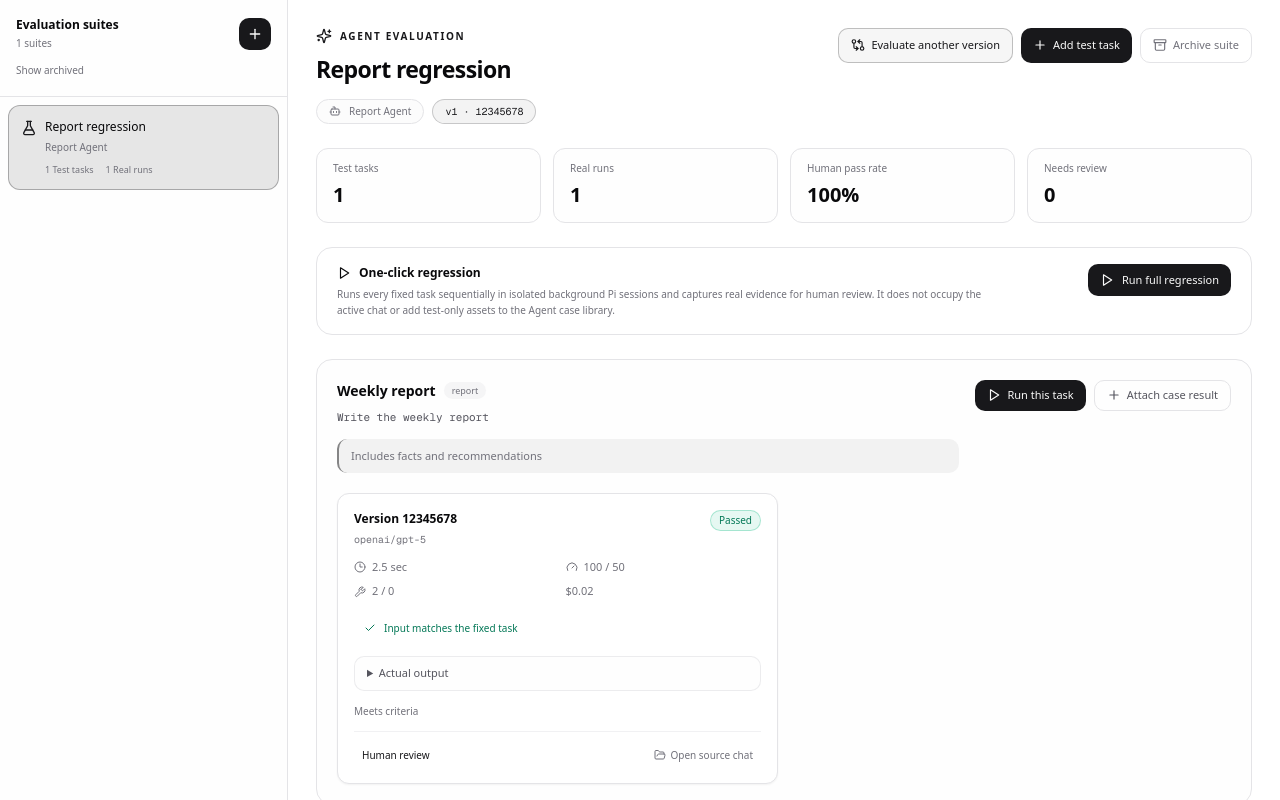
Test: AgentEvaluationsPage › copies the fixed task set to another immutable Agent version
Step 1. Click the button "Evaluate another version" → [926, 45], box [838,28,1013,62]
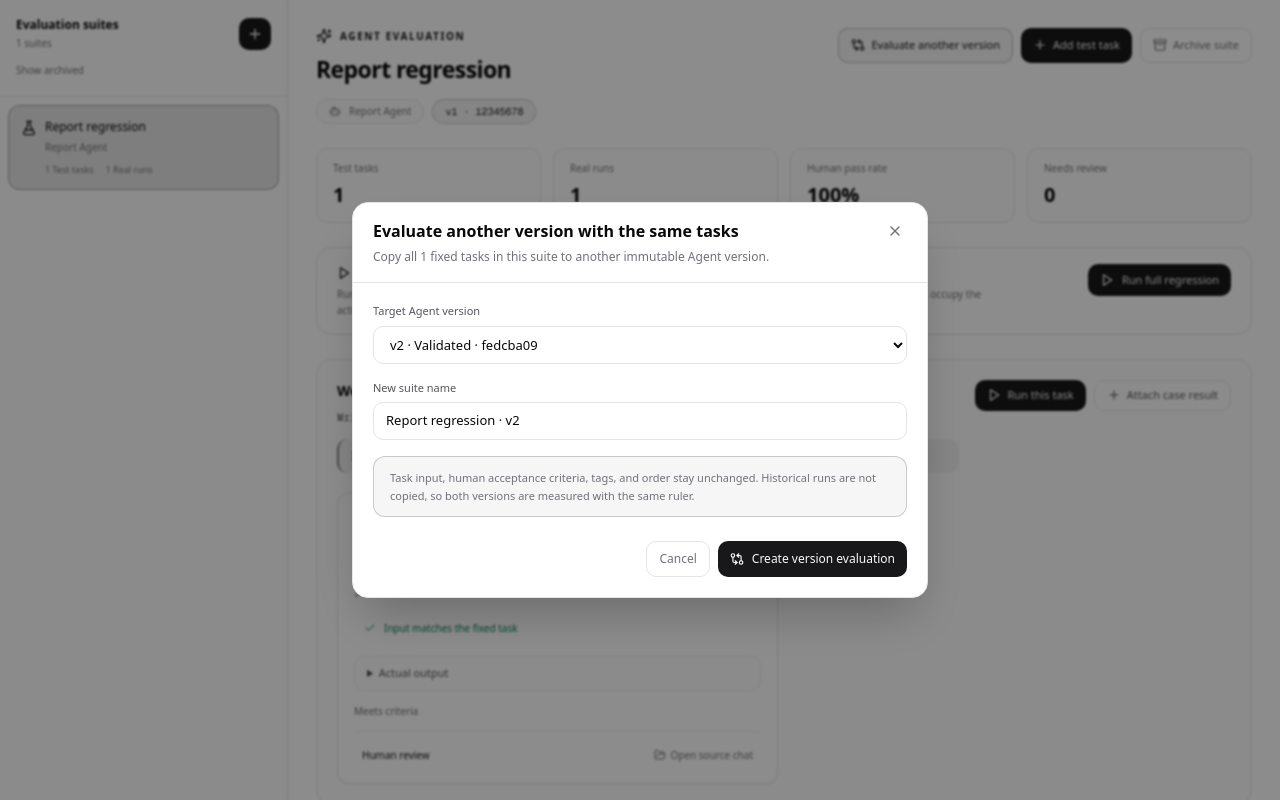
Step 2. Click the button "Create version evaluation" → [812, 559], box [718,541,907,577]
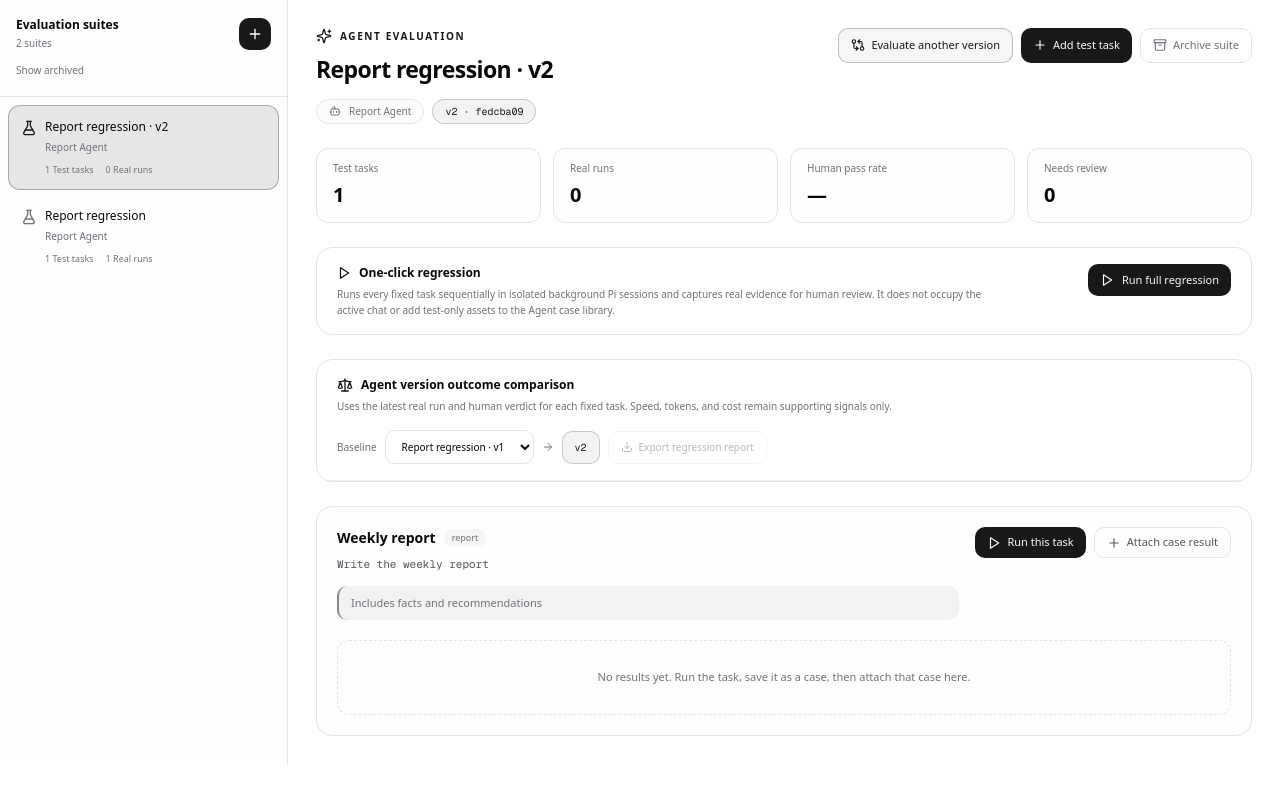
Check: the heading "Report regression · v2" is shown, box [316,52,553,86]
